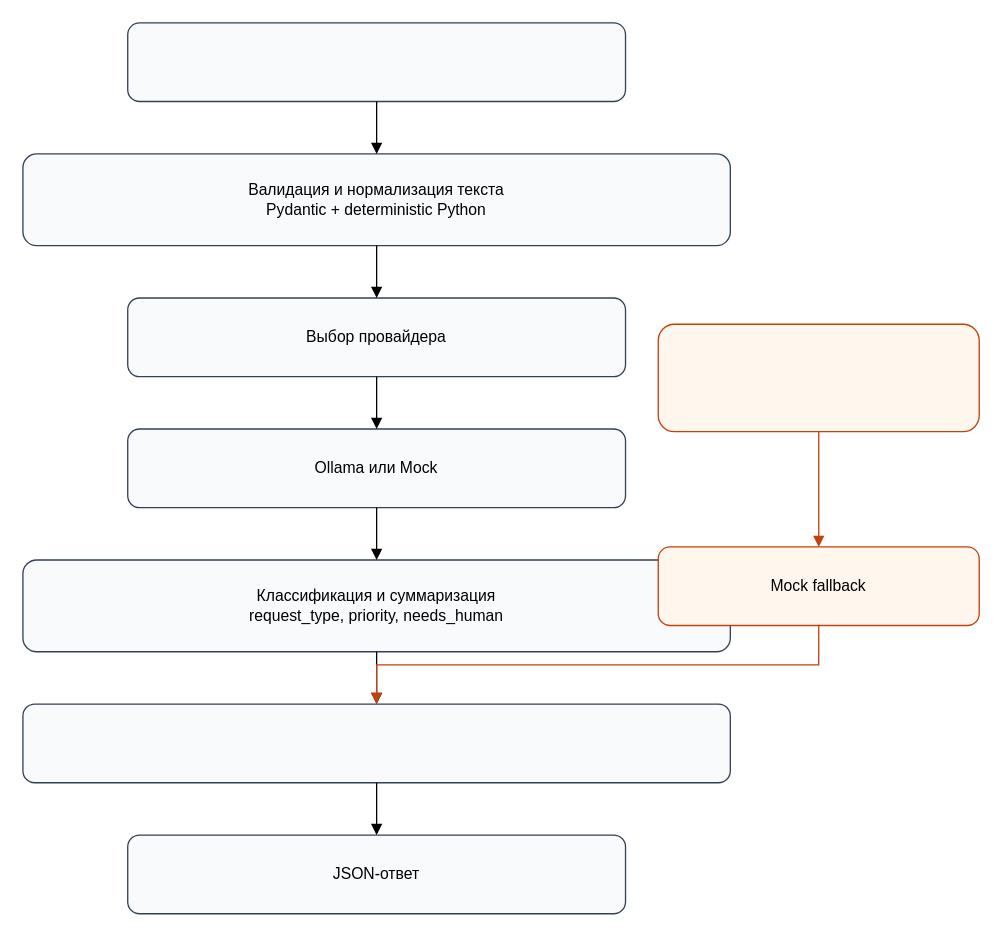
This 1002x937 diagram has some shape labels left out. Here are the shapes that lost their labels. From the top down, the box of each, then its label:
(126, 22, 626, 102): HTTP-запрос
(657, 323, 979, 432): Ошибка Ollama или невалидный JSON
(22, 703, 730, 783): Pydantic-валидация результата
